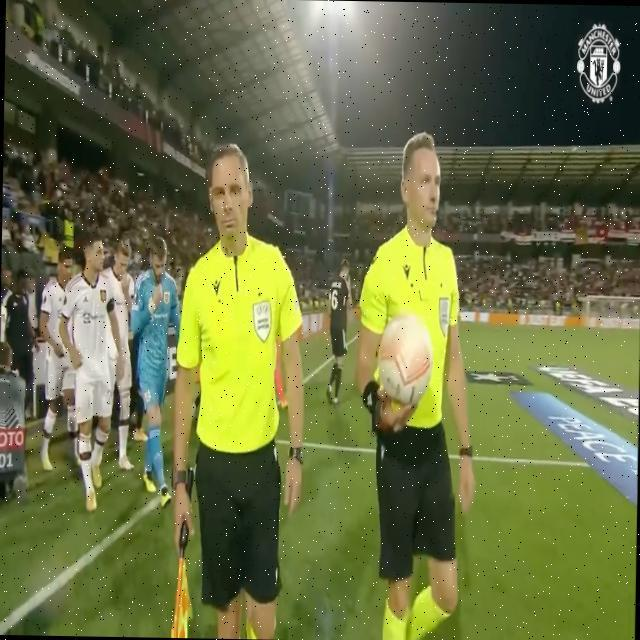Adidas: (82, 292, 90, 303)
TeamViewer: (82, 308, 105, 326)
